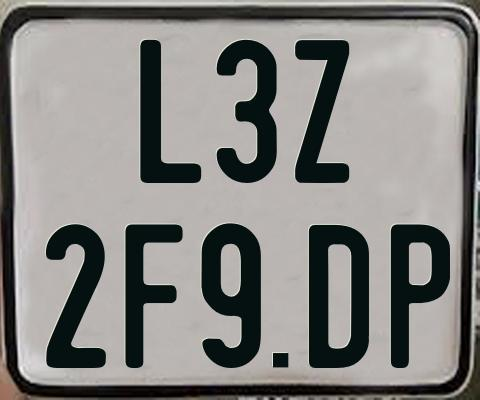2: (44, 224, 108, 371)
3: (215, 39, 275, 187)
9: (199, 221, 261, 368)
D: (309, 223, 374, 371)
F: (123, 222, 181, 369)
L: (137, 38, 202, 181)
P: (388, 221, 453, 368)
Z: (293, 39, 347, 185)
